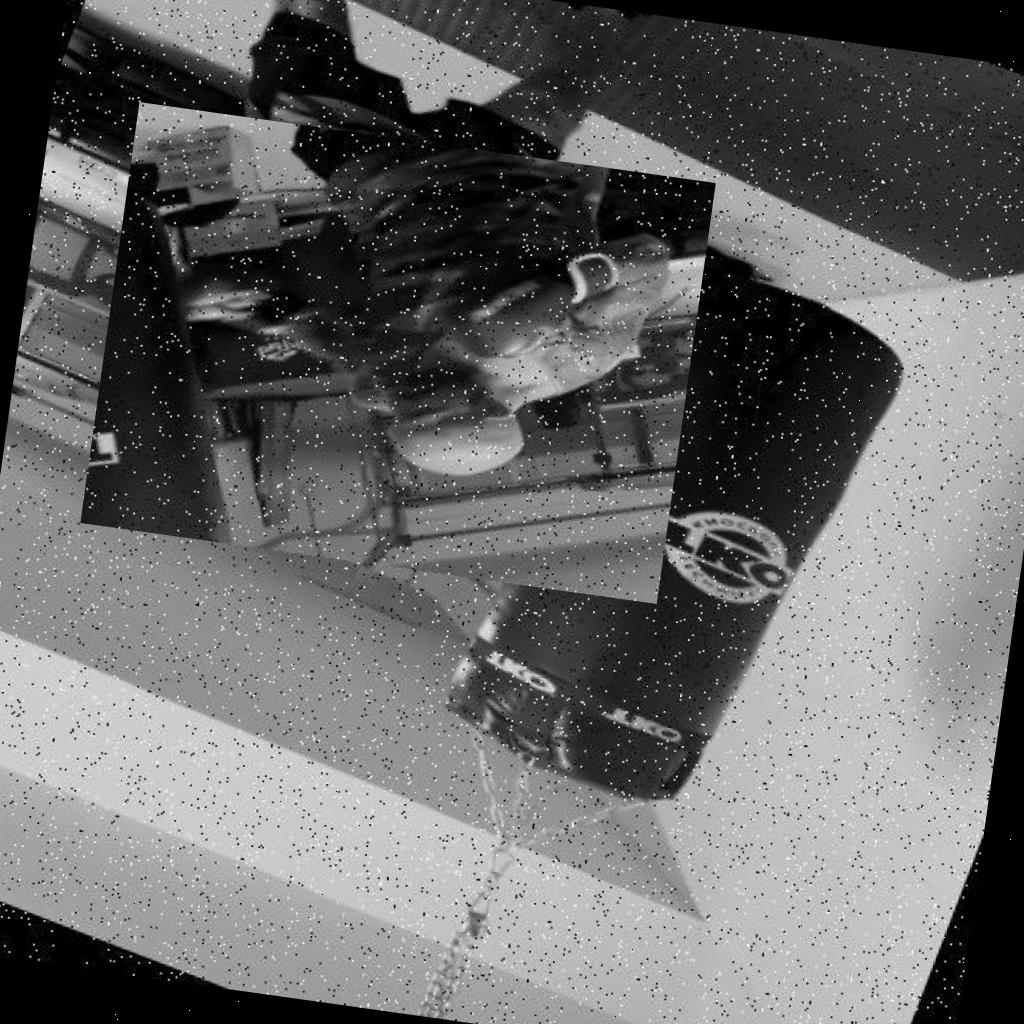bag: (413, 206, 920, 856)
hook: (80, 102, 716, 604)
